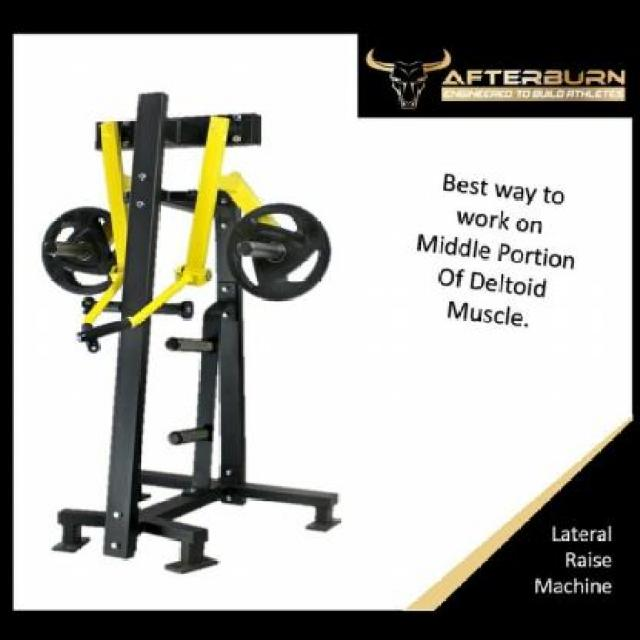lateral raises machine: (38, 90, 344, 572)
